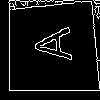A: (25, 25, 72, 64)
